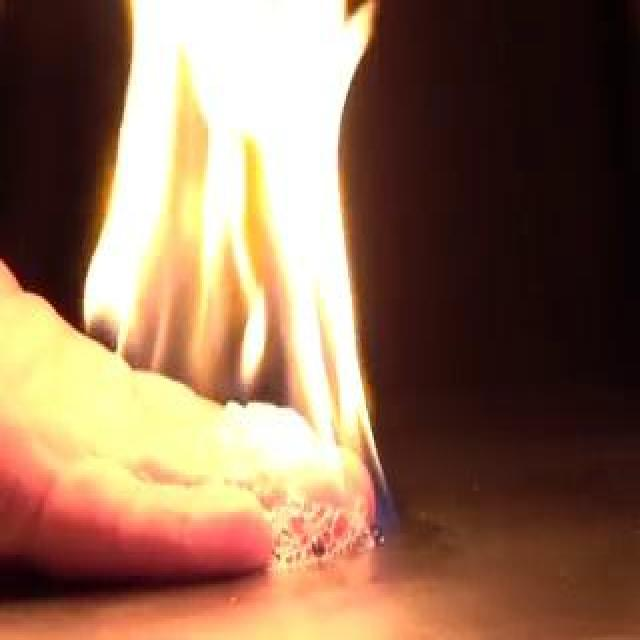Fire: (78, 2, 382, 546)
